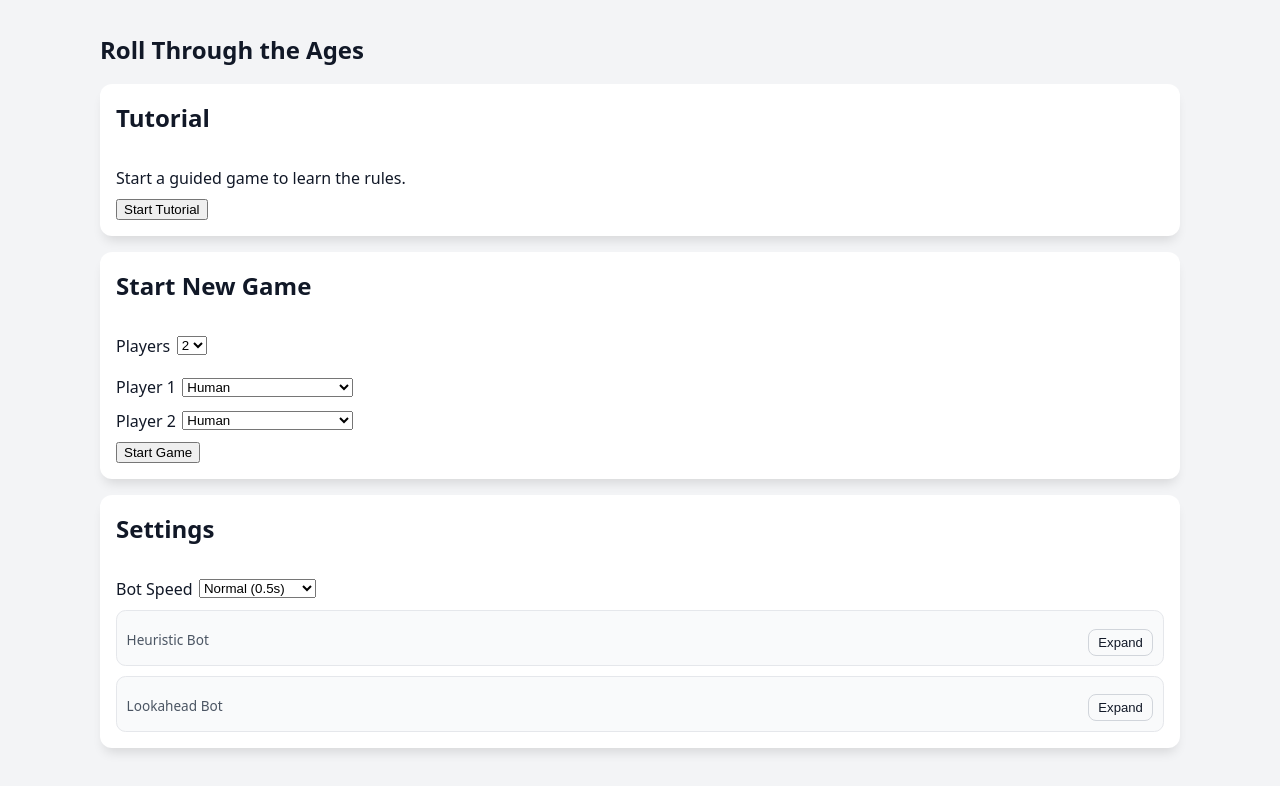
Test: stage5 bot mode integration › does not double-run bot execution after handoff to human
Select "Heuristic Bot" in the dropdown labelled "Player 1": (268, 387) [182,378,353,397]
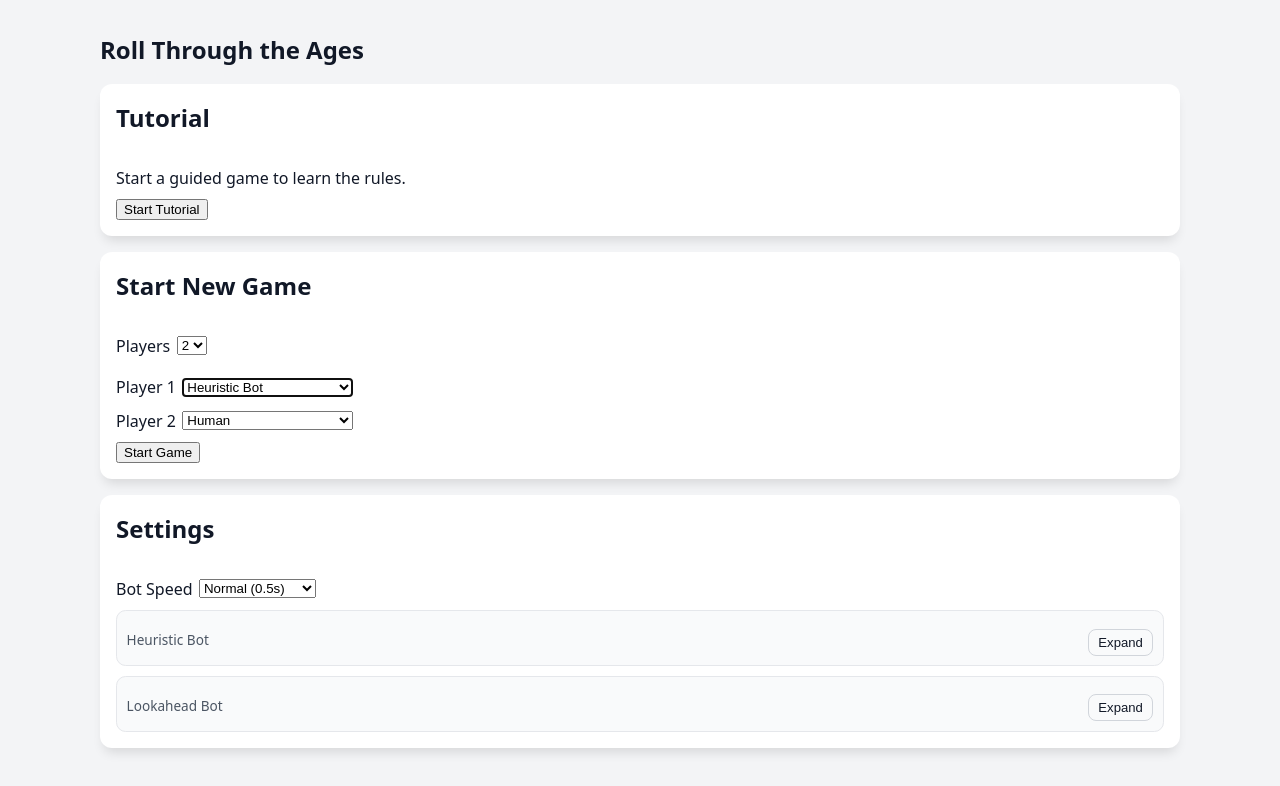
Select "Very Fast (0.1s)" in the dropdown labelled "Bot Speed": (257, 589) [199,579,316,598]
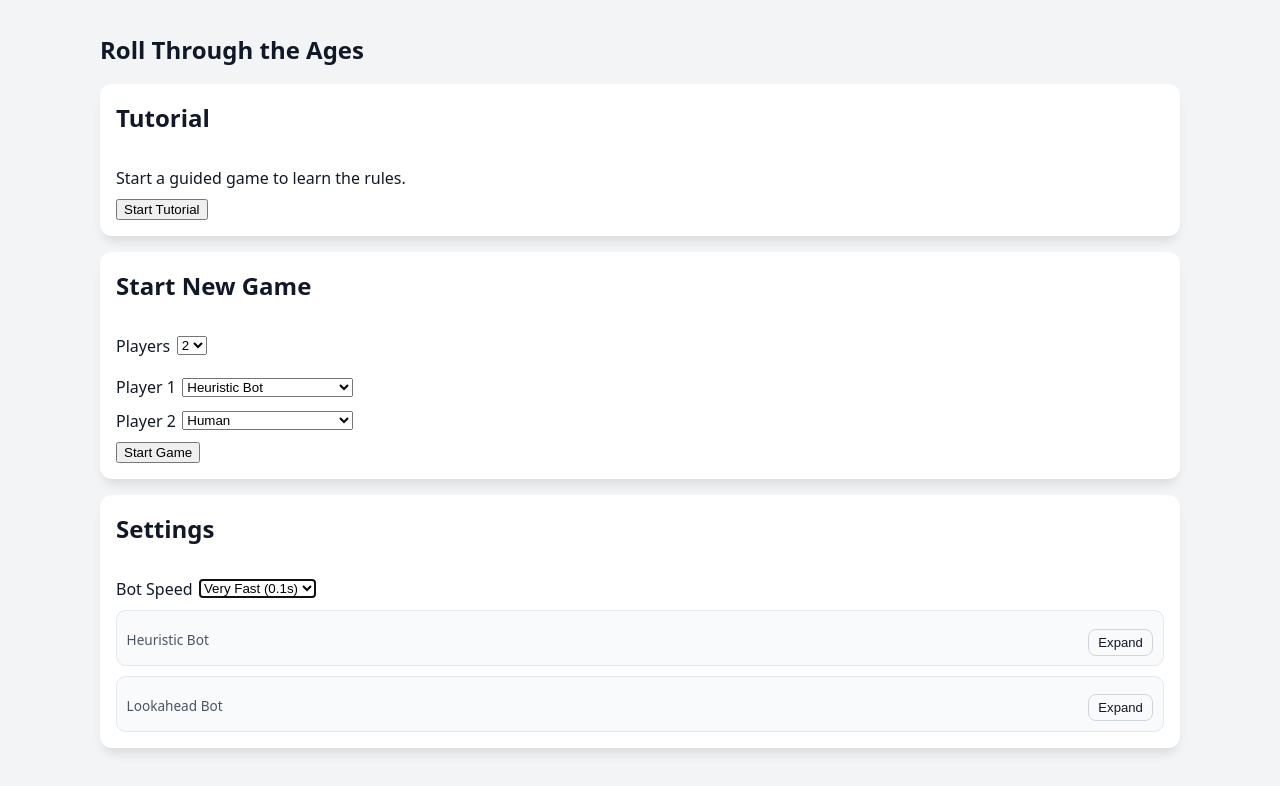
Click the button "Start Game": click(158, 453) [116,442,200,463]
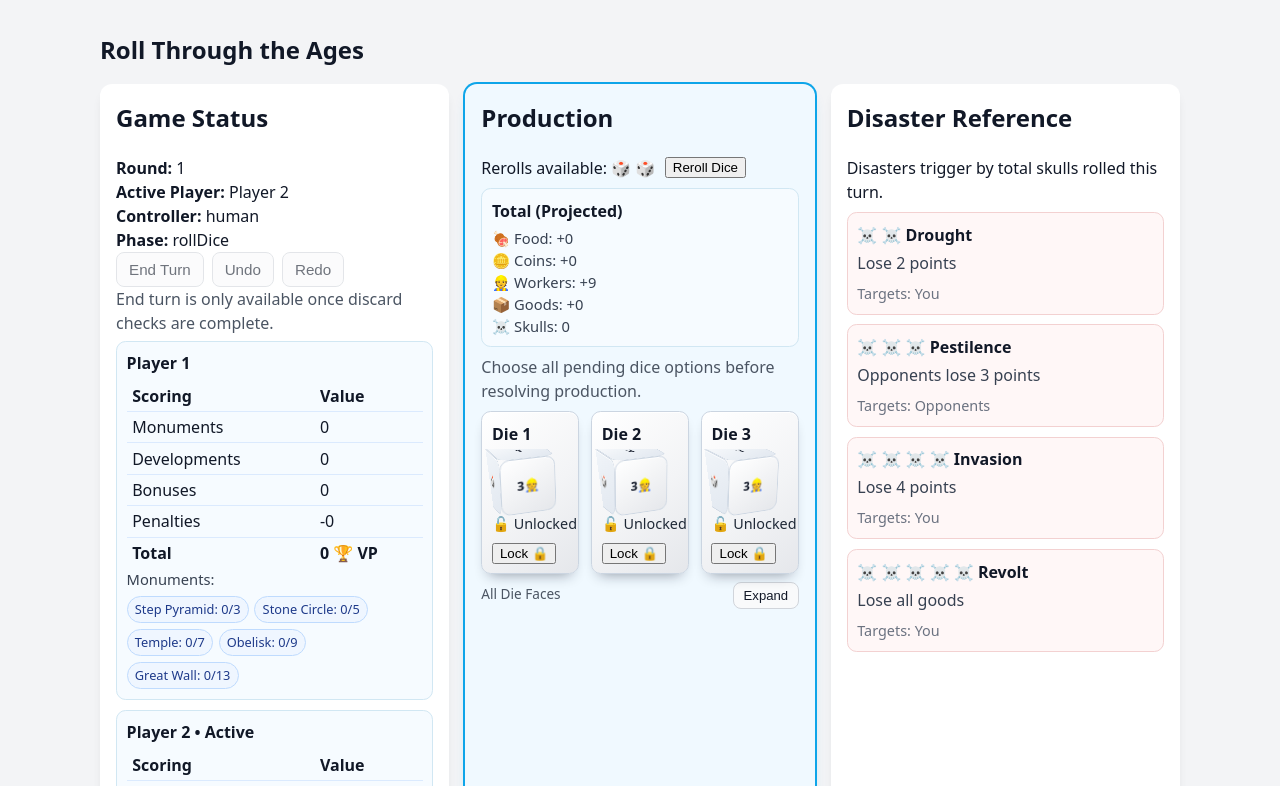
Now the text "Active Player: Player 2" is shown, box [116,181,289,203]
